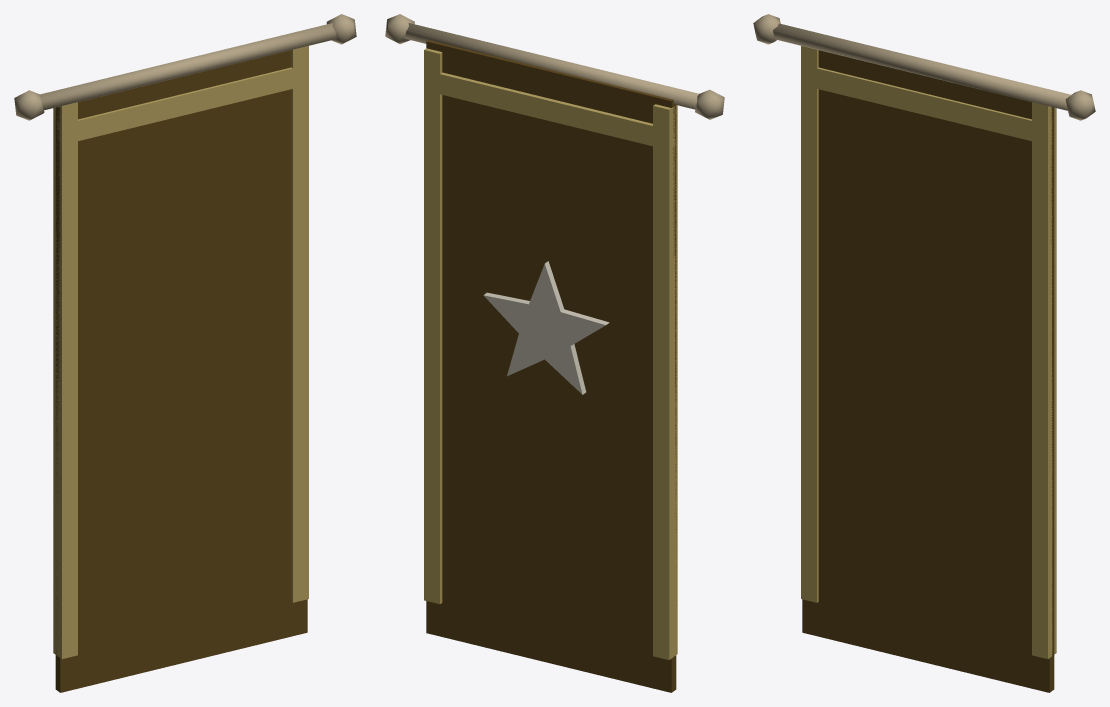
The model's file is flow_invader_banner_v0.glb.
The picture shows the model from 3 angles, left to right: view 1: azimuth 30°, elevation 25°; view 2: azimuth 150°, elevation 25°; view 3: azimuth 330°, elevation 25°; orthographic projection.
Parts seen in each view (by area): view 1: flow_invader_banner_v0; view 2: flow_invader_banner_v0; view 3: flow_invader_banner_v0.
Part boxes in pixels (x1,y1,x2,y2): flow_invader_banner_v0: (14, 14, 356, 692); flow_invader_banner_v0: (385, 14, 724, 692); flow_invader_banner_v0: (753, 14, 1095, 692).
Bounding box in the file's own units: 1.04 × 1.8 × 0.0933.
